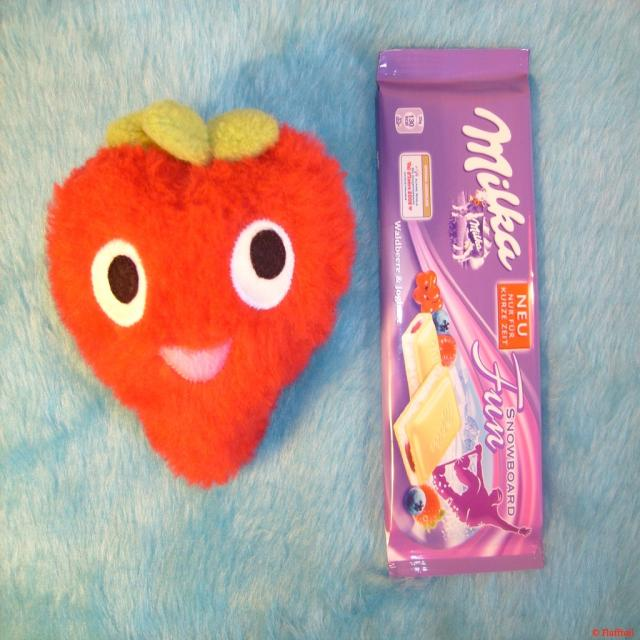milka: (441, 105, 528, 279)
